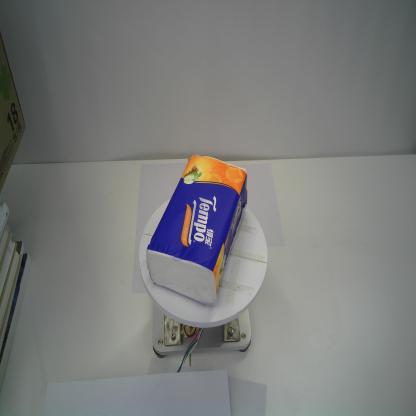Tissue: (146, 155, 247, 306)
